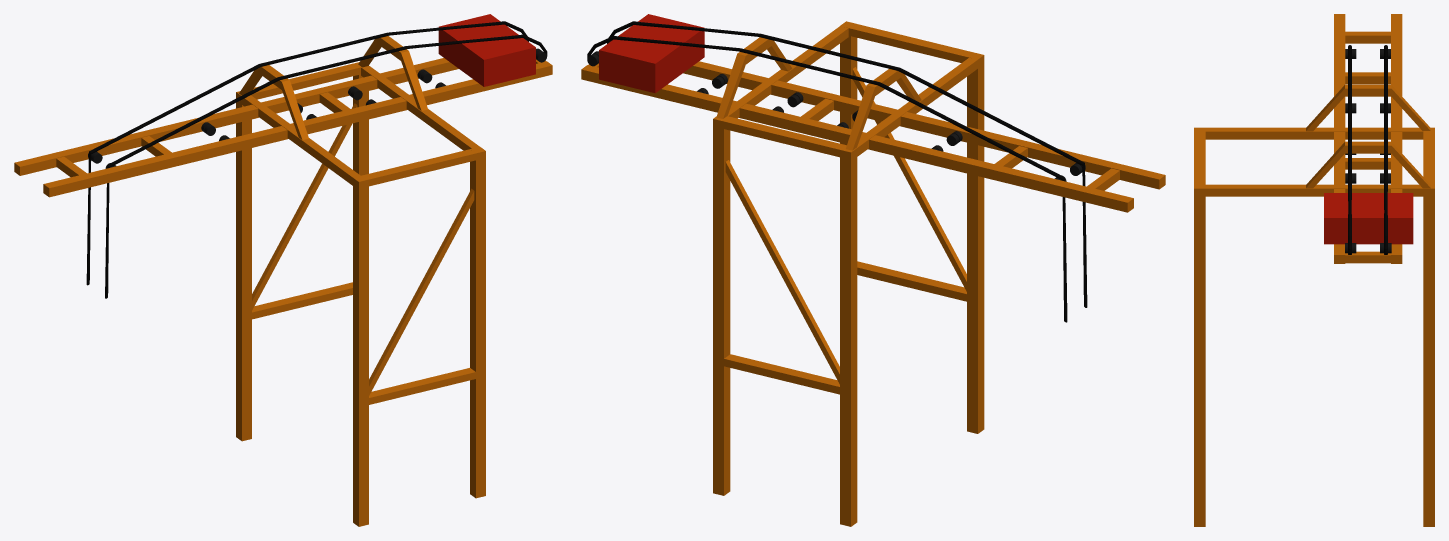
The model's file is crane1.obj.
3 views of the same model, side by side, from view 1: azimuth 30°, elevation 25°; view 2: azimuth 150°, elevation 25°; view 3: azimuth 270°, elevation 25° (orthographic). The views are drawn at different scales.
Parts seen in each view (by area): view 1: Cube.025_Cube.003; view 2: Cube.025_Cube.003; view 3: Cube.025_Cube.003.
Part boxes in pixels (<box>): Cube.025_Cube.003: <box>14,14,552,526</box>; Cube.025_Cube.003: <box>581,14,1165,526</box>; Cube.025_Cube.003: <box>1194,14,1434,526</box>.
Size of the model in its own units: 31.71 by 23.45 by 13.32.
